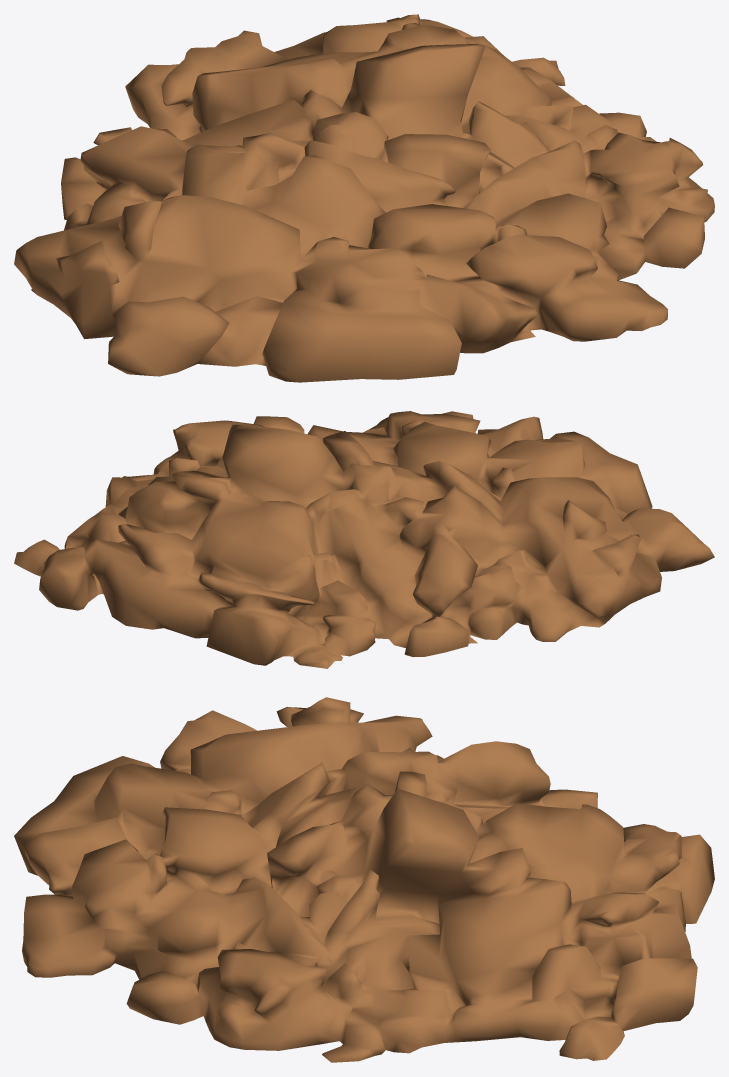
Rendered from MSH_Rock_Many_03.FBX.
The picture shows the model from 3 angles, top to bottom: view 1: azimuth 30°, elevation 25°; view 2: azimuth 150°, elevation 25°; view 3: azimuth 270°, elevation 25°; orthographic projection. The views are drawn at different scales.
Parts seen in each view (by area): view 1: MESH_LOD0; view 2: MESH_LOD0; view 3: MESH_LOD0.
Part boxes in pixels (left/top/right/bottom): MESH_LOD0: left=14, top=14, right=714, bottom=382; MESH_LOD0: left=14, top=411, right=714, bottom=668; MESH_LOD0: left=14, top=697, right=714, bottom=1062.
Size of what is drawn, in the model's own units: 132 by 28.01 by 123.
